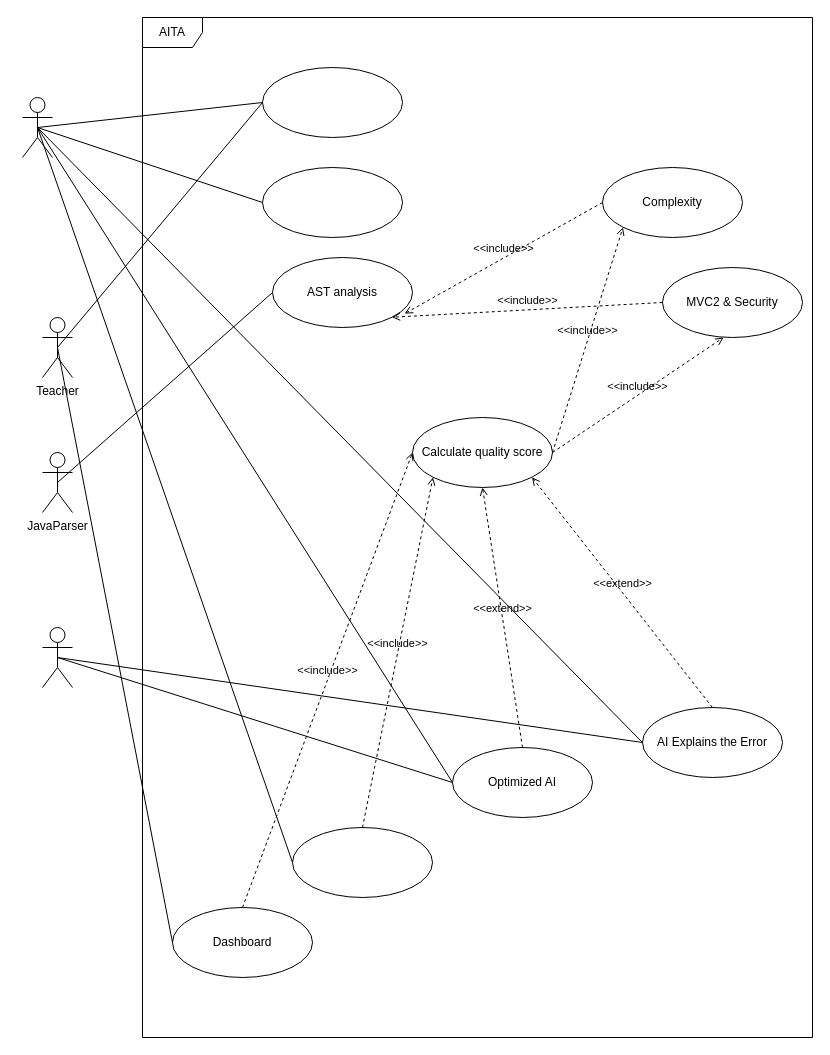
Some shapes in this 830 by 1055 pixel diagram are drawn without their labels. Each missing label, with the centre of its shape:
AI API: (57,657)
Log in & Set Permissions: (332,102)
Report: (362,862)
SHA-256 verification: (332,202)
Student: (37,127)
